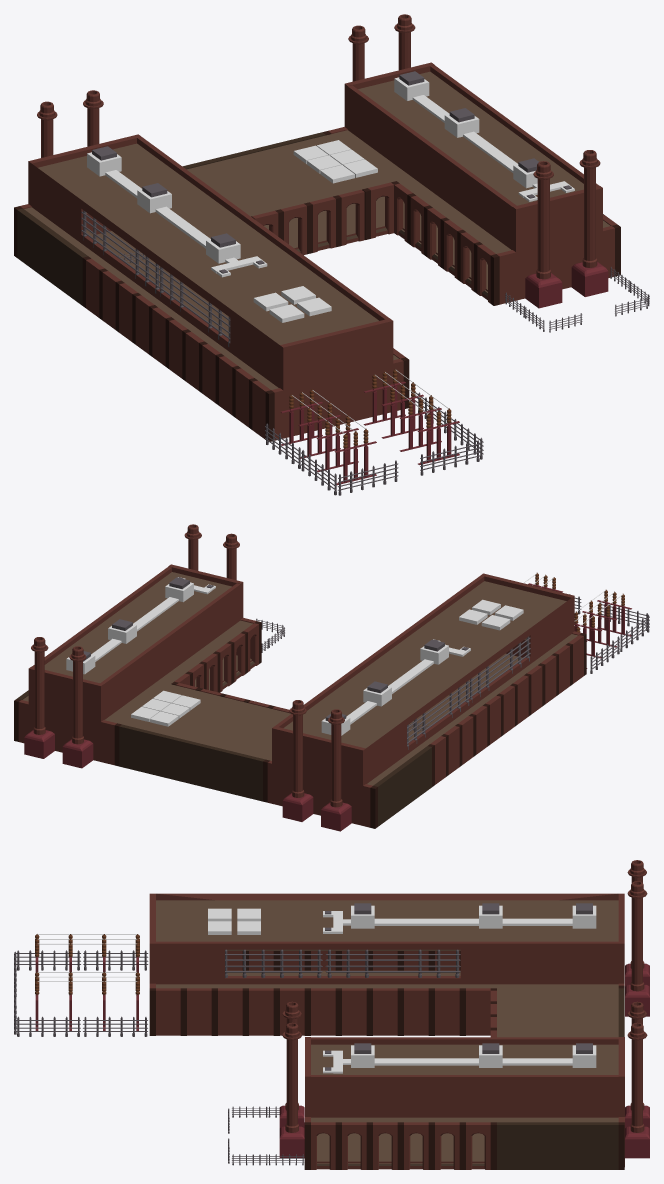
File: Factory_Area.fbx
3 renders of one model, top to bottom at view 1: azimuth 30°, elevation 25°; view 2: azimuth 150°, elevation 25°; view 3: azimuth 270°, elevation 25°, orthographic. The views are drawn at different scales.
Parts seen in each view (by area): view 1: Cube.072, Cube.061, Cube.060, Cube.108, Cube.106, Cube.071, Cube.070, Cube, Cube.208, Cube.080, Cube.079, SteamTower_A.002 (+42 smaller); view 2: Cube.072, Cube.061, Cube.086, Cube.019, Cube.108, Cube.071, Cube.106, Cube.020, Cube.208, Cube, Cube.080, Cube.079 (+33 smaller); view 3: Cube.072, Cube.208, Cube.107, Cube.061, Cube.071, Cube.106, Cube, Cube.068, Cube.067, Cube.108, Fence.006, SteamTower_B.001 (+34 smaller).
Boxes of the visible parts, left/top/right/bottom form: Cube.072: left=38, top=143, right=378, bottom=344; Cube.061: left=24, top=130, right=610, bottom=389; Cube.060: left=271, top=318, right=403, bottom=440; Cube.108: left=348, top=85, right=516, bottom=249; Cube.106: left=31, top=164, right=279, bottom=387; Cube.071: left=358, top=71, right=583, bottom=205; Cube.070: left=497, top=185, right=614, bottom=304; Cube: left=97, top=196, right=487, bottom=336; Cube.208: left=137, top=137, right=389, bottom=320; Cube.080: left=49, top=232, right=87, bottom=305; Cube.079: left=17, top=208, right=54, bottom=281; SteamTower_A.002: left=533, top=161, right=553, bottom=279; Cube.072: left=283, top=581, right=566, bottom=748; Cube.061: left=22, top=620, right=577, bottom=785; Cube.086: left=119, top=724, right=265, bottom=801; Cube.019: left=267, top=726, right=372, bottom=827; Cube.108: left=100, top=583, right=240, bottom=719; Cube.071: left=44, top=572, right=231, bottom=682; Cube.106: left=366, top=598, right=571, bottom=783; Cube.020: left=18, top=666, right=116, bottom=765; Cube.208: left=275, top=575, right=484, bottom=727; Cube: left=195, top=653, right=522, bottom=730; Cube.080: left=400, top=746, right=431, bottom=807; Cube.079: left=373, top=766, right=404, bottom=826; Cube.072: left=156, top=900, right=618, bottom=950; Cube.208: left=156, top=941, right=618, bottom=984; Cube.107: left=308, top=1075, right=618, bottom=1117; Cube.061: left=156, top=984, right=618, bottom=1122; Cube.071: left=311, top=1044, right=618, bottom=1074; Cube.106: left=156, top=893, right=618, bottom=900; Cube: left=227, top=970, right=484, bottom=1165; Cube.068: left=497, top=1122, right=558, bottom=1169; Cube.067: left=559, top=1122, right=618, bottom=1169; Cube.108: left=311, top=1037, right=618, bottom=1044; Fence.006: left=325, top=949, right=460, bottom=977; SteamTower_B.001: left=627, top=881, right=647, bottom=991.
Bounding box in the file's own units: 9611 × 2863 × 12898.
